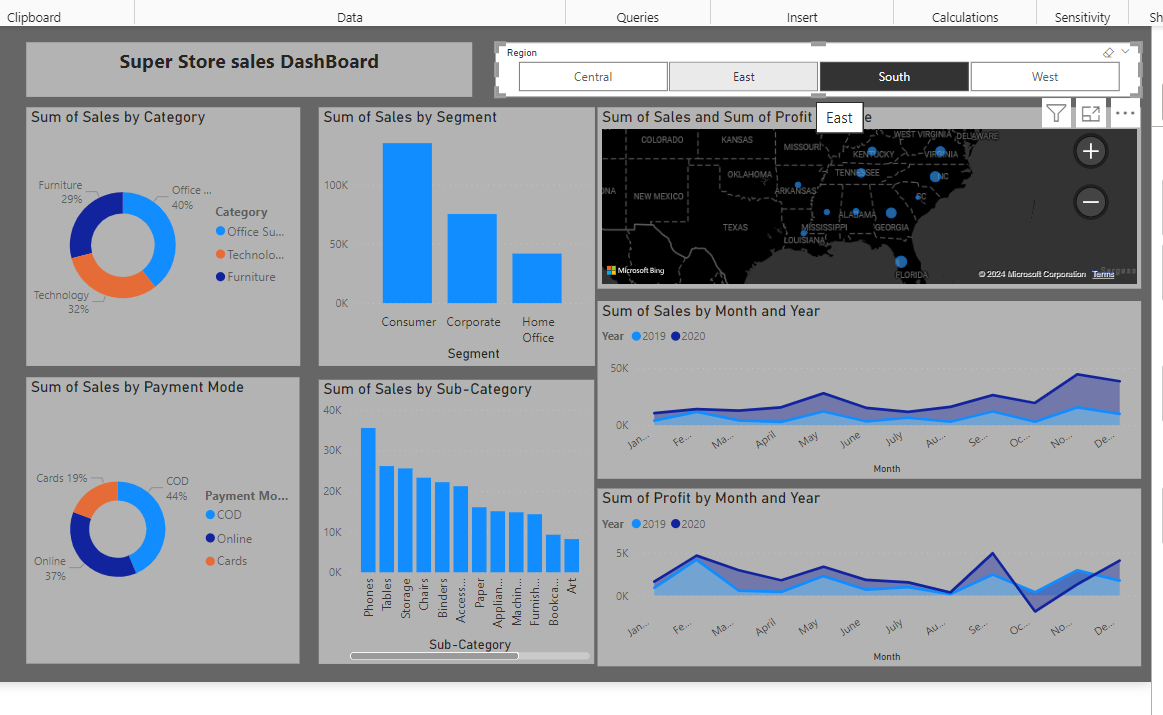

Layout of this report page (visuals, bound fields, positions):
{"tool":"powerbi","page":{"name":"Page 1","canvas":[1280,720],"ordinal":0},"visuals":[{"type":"clusteredColumnChart","fields":{"Y":["Sum(SuperStore_Sales_Dataset.Sales)"],"Category":["SuperStore_Sales_Dataset.Sub-Category"]},"box":[366.6,388.3,302.7,312.4],"z":0},{"type":"clusteredColumnChart","fields":{"Category":["SuperStore_Sales_Dataset.Segment"],"Y":["Sum(SuperStore_Sales_Dataset.Sales)"]},"box":[366.4,89.2,303.3,284],"z":1000},{"type":"stackedAreaChart","fields":{"Category":["SuperStore_Sales_Dataset.Order Date.Variation.Date Hierarchy.Month"],"Y":["Sum(SuperStore_Sales_Dataset.Sales)"],"Series":["SuperStore_Sales_Dataset.Order Date.Variation.Date Hierarchy.Year"]},"box":[673,301.5,597,195.4],"z":2000},{"type":"stackedAreaChart","fields":{"Category":["SuperStore_Sales_Dataset.Order Date.Variation.Date Hierarchy.Month"],"Series":["SuperStore_Sales_Dataset.Order Date.Variation.Date Hierarchy.Year"],"Y":["Sum(SuperStore_Sales_Dataset.Profit)"]},"box":[673,507.7,597,195.4],"z":3000},{"type":"map","fields":{"Category":["SuperStore_Sales_Dataset.State"],"Size":["Sum(SuperStore_Sales_Dataset.Sales)"]},"box":[672.4,89.2,596.9,199],"z":4000},{"type":"donutChart","fields":{"Category":["SuperStore_Sales_Dataset.Category"],"Y":["Sum(SuperStore_Sales_Dataset.Sales)"]},"box":[45.3,89.2,300.5,284],"z":5000},{"type":"donutChart","fields":{"Y":["Sum(SuperStore_Sales_Dataset.Sales)"],"Category":["SuperStore_Sales_Dataset.Payment Mode"]},"box":[45.8,385.9,300.3,314.8],"z":6000},{"type":"slicer","fields":{"Values":["SuperStore_Sales_Dataset.Region"]},"box":[559.9,17.8,709.4,60.4],"z":7000},{"type":"textbox","box":[45.3,17.8,489.9,60.4],"z":8000}]}

Visuals, with their boxes in screenshot pixels (x1, y1, x2, y2):
clusteredColumnChart - Sum(SuperStore_Sales_Dataset.Sales) x SuperStore_Sales_Dataset.Sub-Category: l=313, t=385, r=594, b=675
clusteredColumnChart - SuperStore_Sales_Dataset.Segment x Sum(SuperStore_Sales_Dataset.Sales): l=313, t=107, r=595, b=371
stackedAreaChart - SuperStore_Sales_Dataset.Order Date.Variation.Date Hierarchy.Month x Sum(SuperStore_Sales_Dataset.Sales): l=598, t=304, r=1153, b=486
stackedAreaChart - SuperStore_Sales_Dataset.Order Date.Variation.Date Hierarchy.Month x SuperStore_Sales_Dataset.Order Date.Variation.Date Hierarchy.Year: l=598, t=496, r=1153, b=677
map - SuperStore_Sales_Dataset.State x Sum(SuperStore_Sales_Dataset.Sales): l=597, t=107, r=1152, b=292
donutChart - SuperStore_Sales_Dataset.Category x Sum(SuperStore_Sales_Dataset.Sales): l=15, t=107, r=294, b=371
donutChart - Sum(SuperStore_Sales_Dataset.Sales) x SuperStore_Sales_Dataset.Payment Mode: l=15, t=383, r=294, b=675
slicer - SuperStore_Sales_Dataset.Region: l=493, t=41, r=1152, b=97
textbox: l=15, t=41, r=470, b=97
